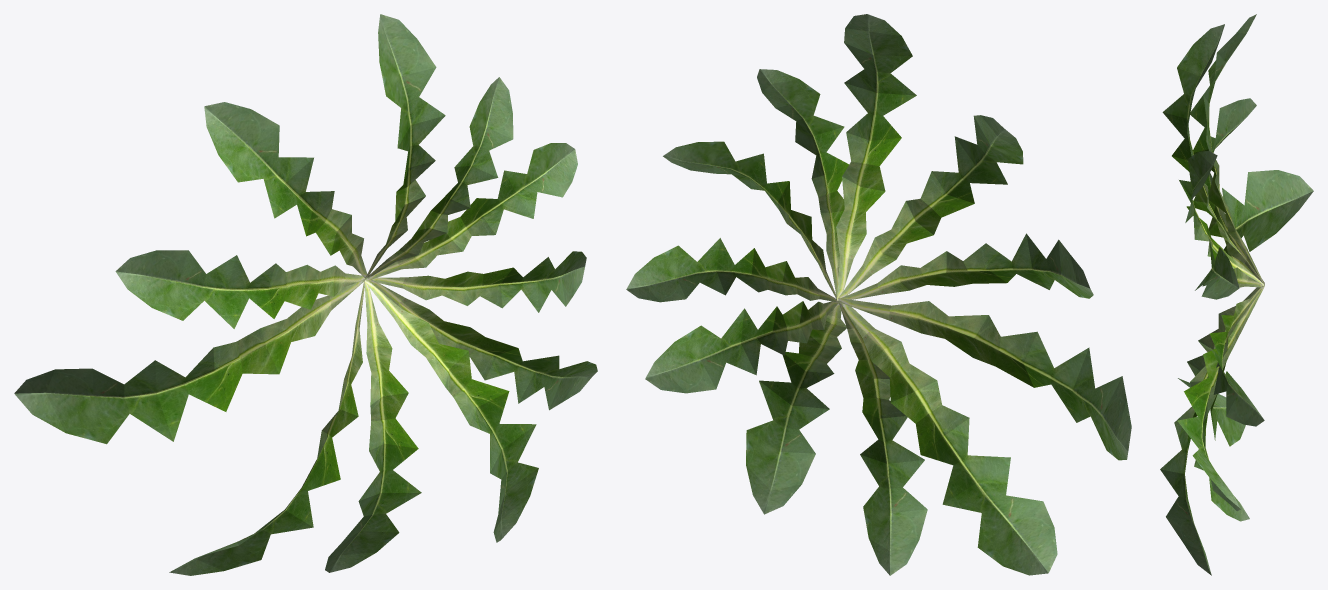
File: taraxacum_01.obj
3 renders of one model, left to right at view 1: azimuth 30°, elevation 25°; view 2: azimuth 150°, elevation 25°; view 3: azimuth 270°, elevation 25°, orthographic. The views are drawn at different scales.
Parts seen in each view (by area): view 1: taraxacum; view 2: taraxacum; view 3: taraxacum.
Part boxes in pixels (x1,y1,x2,y2): taraxacum: (14, 14, 597, 575); taraxacum: (626, 14, 1131, 575); taraxacum: (1160, 14, 1313, 575).
Bounding box in the file's own units: 0.3878 × 0.3813 × 0.104.
